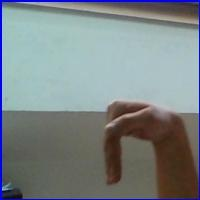del: (92, 92, 186, 189)
